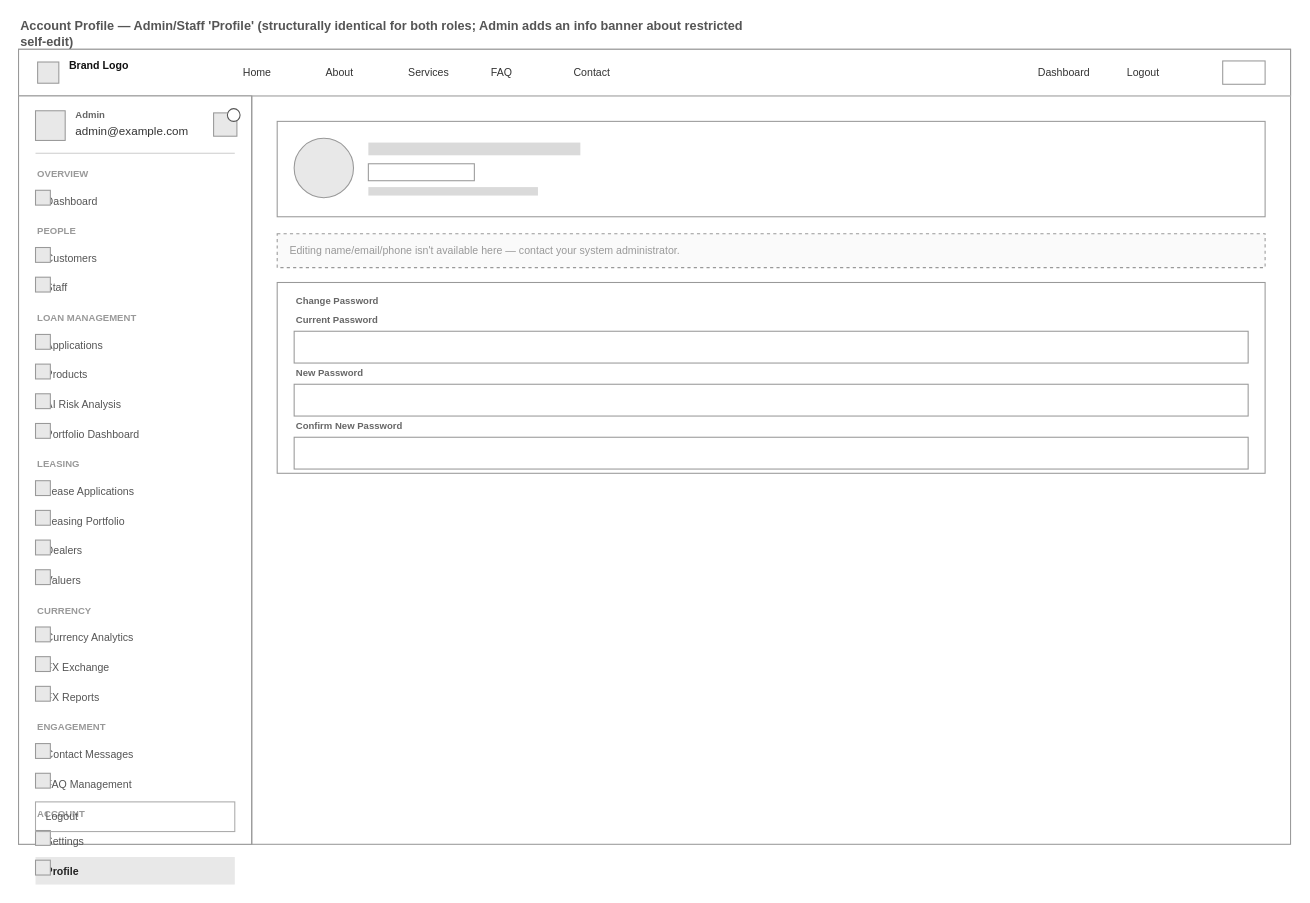
Image size: 1310x903. Some labels were removed from this diagram. Each missing label, with the centre of its shape:
Administrator: pixel 420 172
EN ▾: pixel 1243 72
